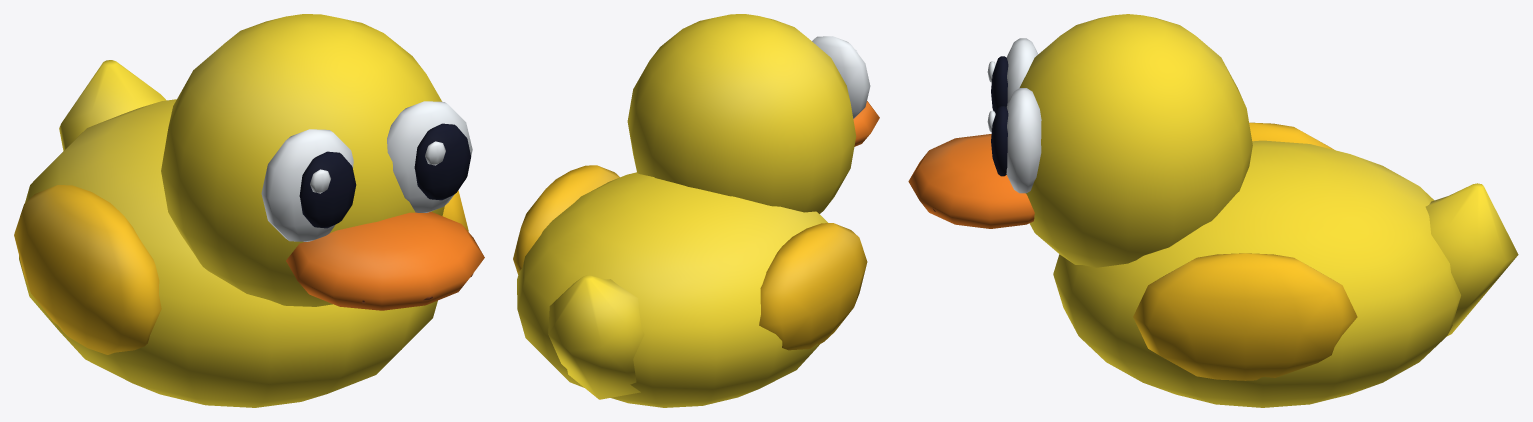
The model's file is RubberDuck.fbx.
The picture shows the model from 3 angles, left to right: view 1: azimuth 30°, elevation 25°; view 2: azimuth 150°, elevation 25°; view 3: azimuth 270°, elevation 25°; orthographic projection. The views are drawn at different scales.
Visible parts, largest first — view 1: RubberDuck; view 2: RubberDuck; view 3: RubberDuck.
Part boxes in pixels (x1=…): RubberDuck: x1=14, y1=14, x2=484, y2=407; RubberDuck: x1=513, y1=14, x2=879, y2=407; RubberDuck: x1=908, y1=14, x2=1518, y2=407.
Bounding box in the file's own units: 1.62 × 1.62 × 2.5.
Materials: 1 (1 with a texture image).
